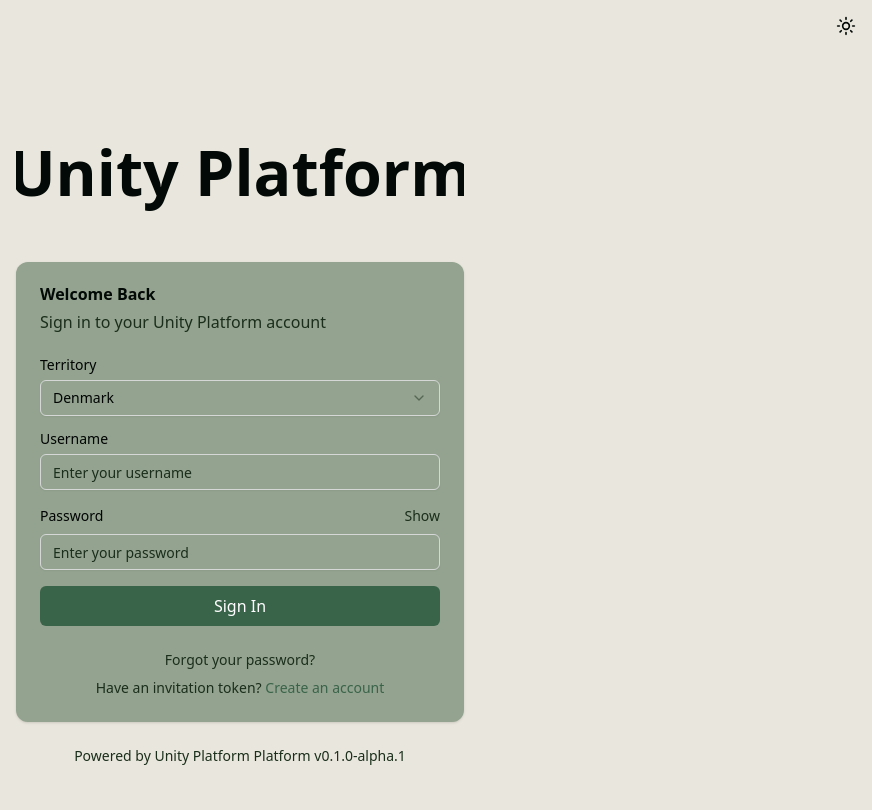
LoginPage › shows validation errors for empty fields
Click the button "Sign In". click: (240,606)
box: [40,586,440,626]
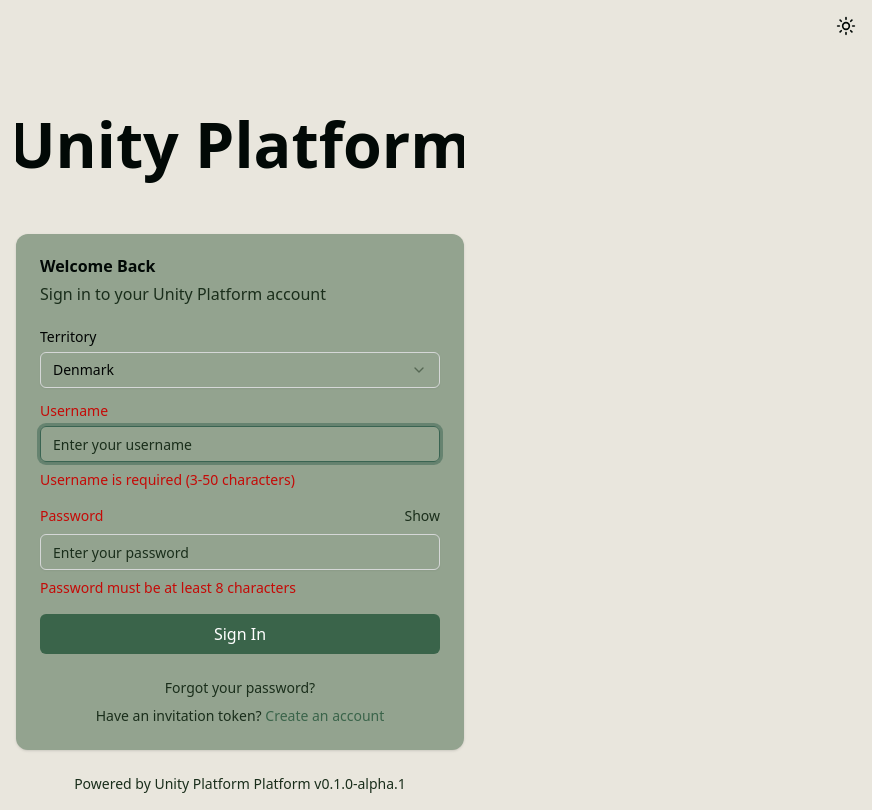
Now the text "Username is required (3-50 characters)" is shown, box [40,470,295,489]
